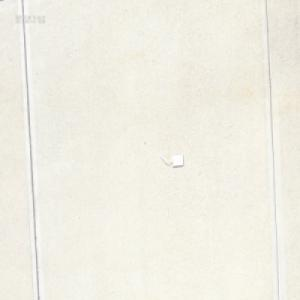LuggageTag: (159, 152, 184, 168)
